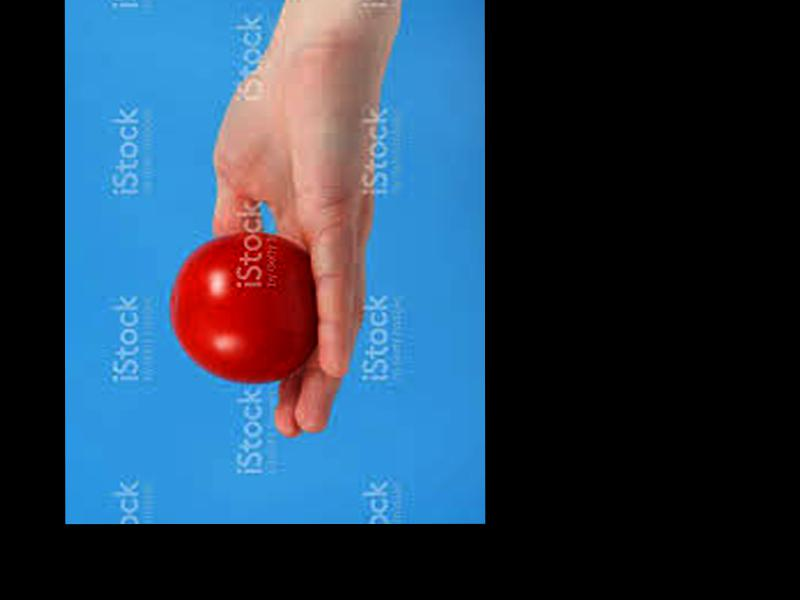Tomato: (173, 234, 315, 383)
